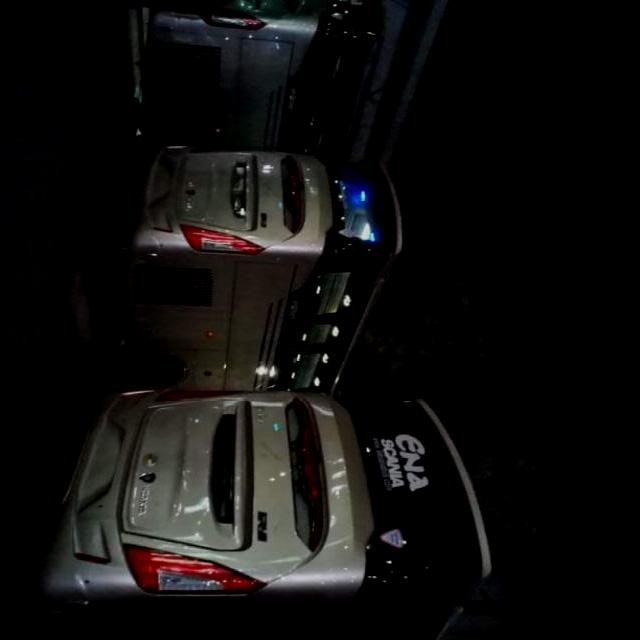bus: (101, 147, 404, 392)
